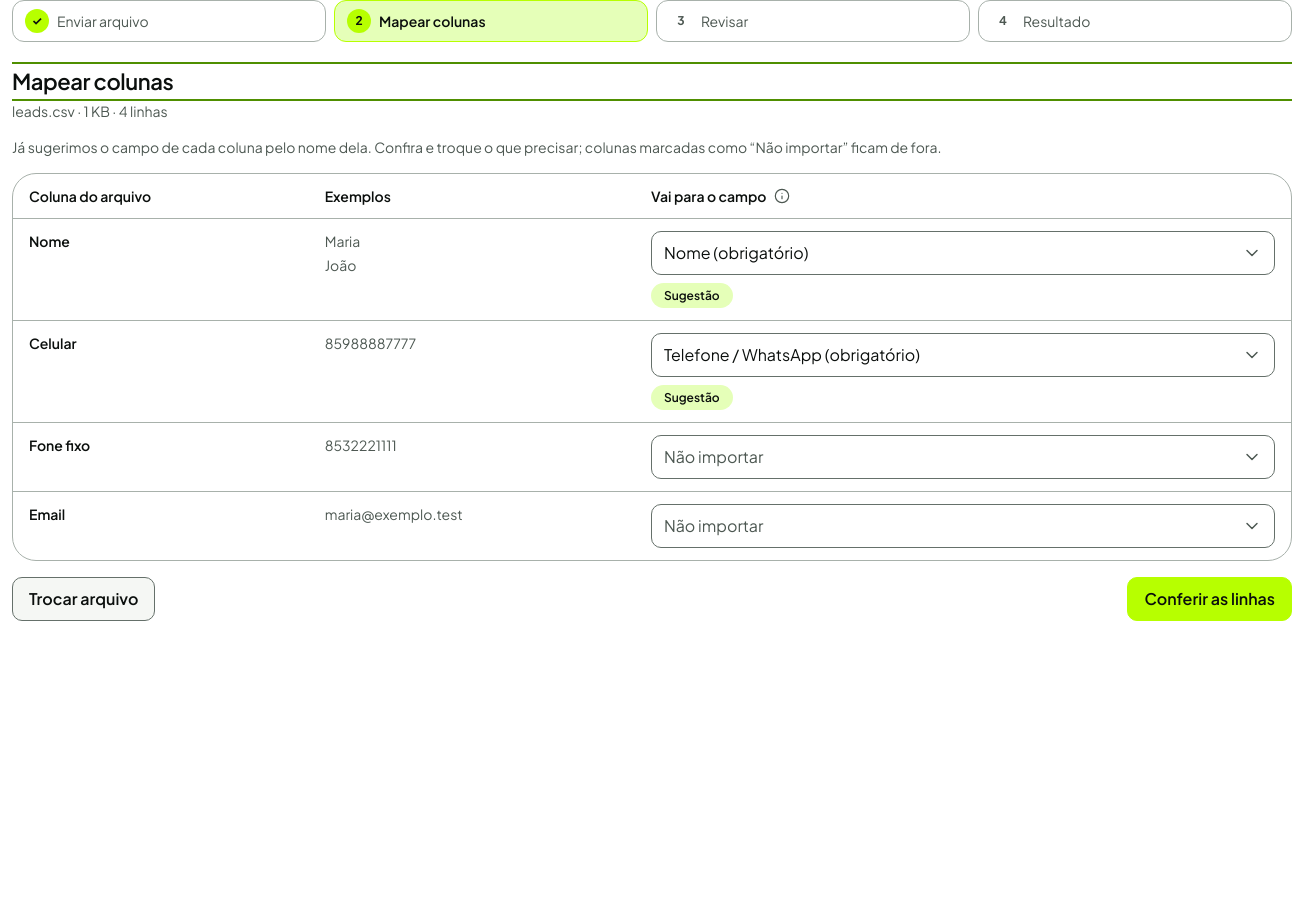
Test: os quatro passos, do arquivo ao relatório › endereço sem rua: a revisão avisa que ele não será salvo
Earlier steps of the test are not shown.
Later steps or results of the test are not shown.
Click the button "Conferir as linhas" at coordinates (1210, 599), box [1127, 577, 1292, 621]
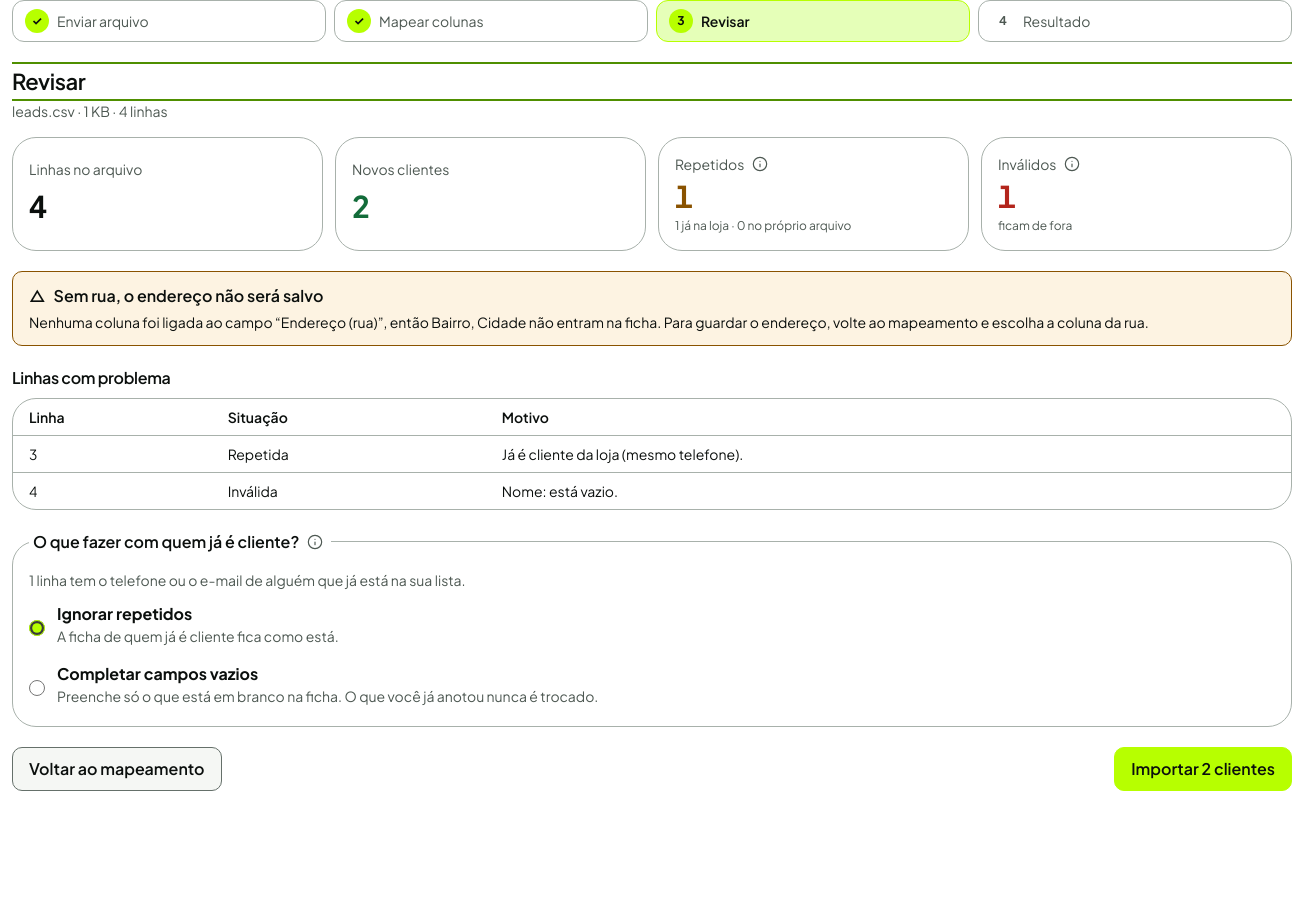
Expected: the text "Sem rua, o endereço não será salvo" is shown, [54, 285, 323, 306]
Expected: the text "Bairro, Cidade não entram na ficha" is shown, [29, 312, 1275, 333]
